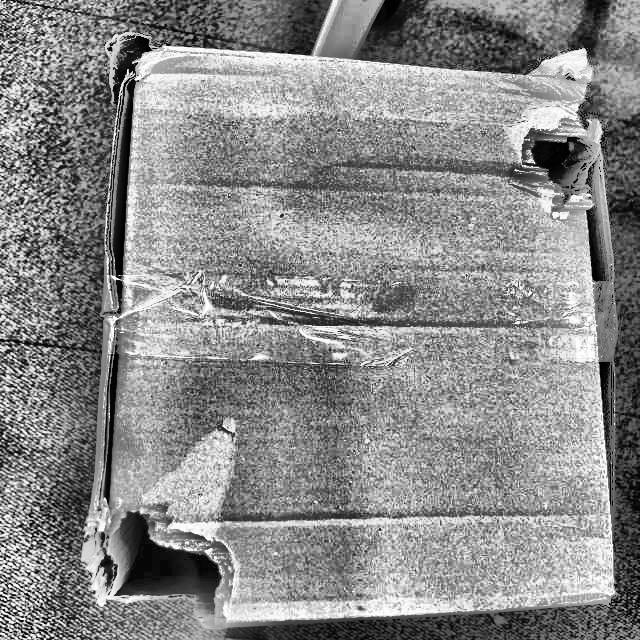box: (78, 30, 624, 637)
hole: (90, 499, 238, 625), (506, 72, 610, 198)
